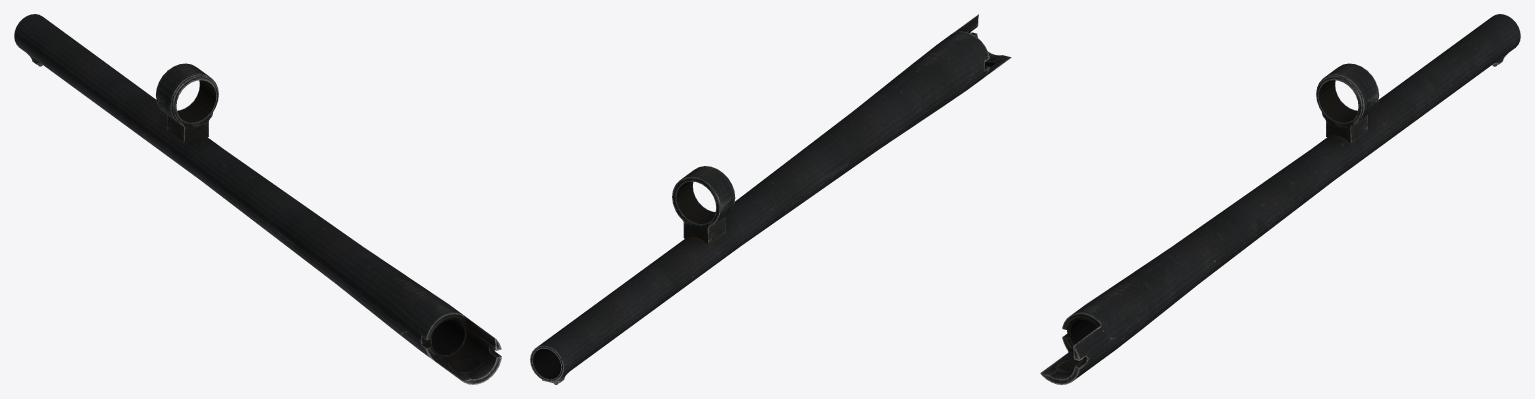
The picture shows the model from 3 angles, left to right: view 1: azimuth 30°, elevation 25°; view 2: azimuth 150°, elevation 25°; view 3: azimuth 330°, elevation 25°; orthographic projection.
Parts seen in each view (by area): view 1: TW_5a787f7ac5856700177af660_PZ_Import; view 2: TW_5a787f7ac5856700177af660_PZ_Import; view 3: TW_5a787f7ac5856700177af660_PZ_Import.
Part boxes in pixels (x1=…): TW_5a787f7ac5856700177af660_PZ_Import: x1=14, y1=14, x2=501, y2=384; TW_5a787f7ac5856700177af660_PZ_Import: x1=530, y1=14, x2=1011, y2=384; TW_5a787f7ac5856700177af660_PZ_Import: x1=1040, y1=14, x2=1520, y2=384.
Bounding box in the file's own units: 0.0188 × 0.3018 × 0.0389.
1 material, 1 textured.
